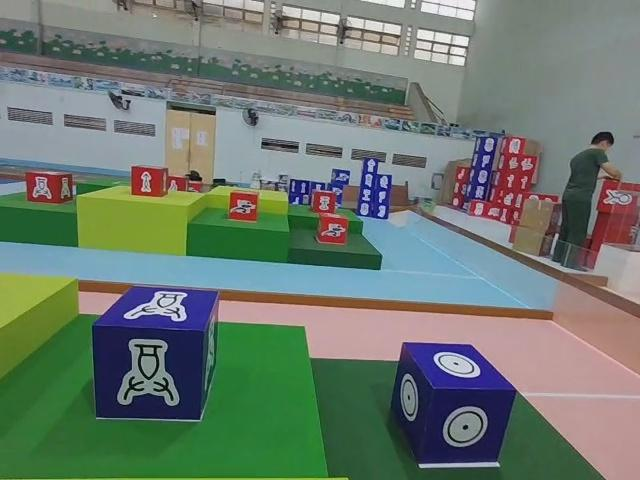R2 Real Blue: (92, 284, 220, 422), (391, 342, 515, 467)
